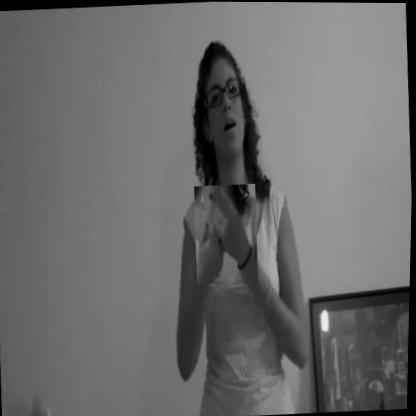HowAreYou: (193, 182, 261, 287)
